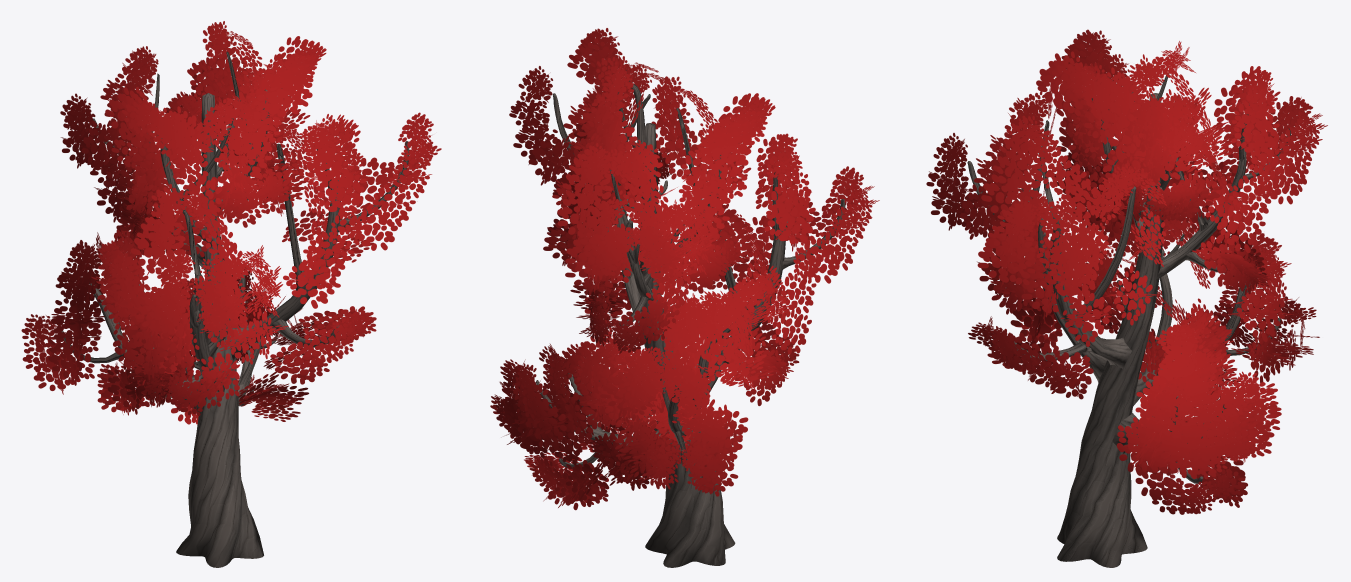
The model's file is twisted-amber.glb.
The picture shows the model from 3 angles, left to right: view 1: azimuth 30°, elevation 25°; view 2: azimuth 150°, elevation 25°; view 3: azimuth 270°, elevation 25°; orthographic projection. The views are drawn at different scales.
Parts seen in each view (by area): view 1: TwistedTree_3; view 2: TwistedTree_3; view 3: TwistedTree_3.
Boxes of the visible parts, left/top/right/bottom form: TwistedTree_3: left=21, top=21, right=441, bottom=567; TwistedTree_3: left=490, top=28, right=879, bottom=567; TwistedTree_3: left=926, top=29, right=1327, bottom=567.
Size of the model in its own units: 11.36 by 16.07 by 11.51.
2 materials, 2 textured.
